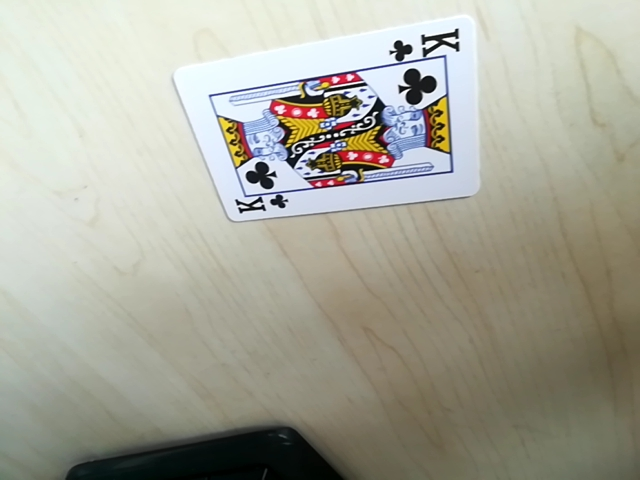mh k: (390, 25, 466, 62), (225, 188, 287, 220)
